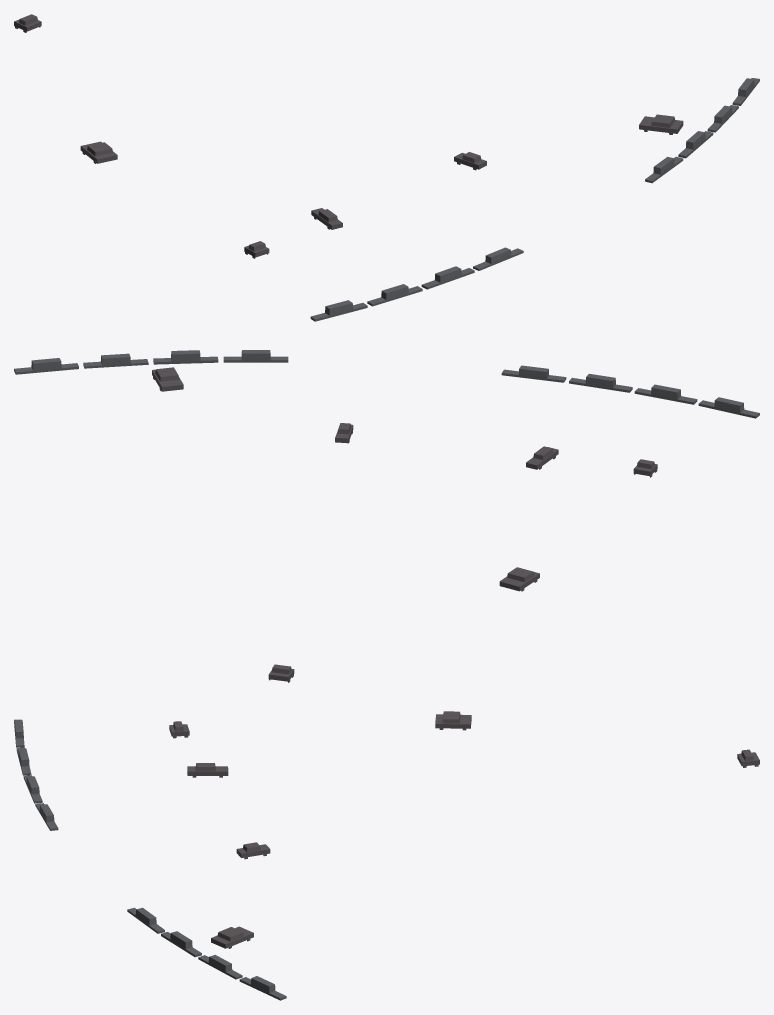
Rendered from SM_City_AlTariqAlMasdud_6.fbx.
3 views of the same model, one above another, from view 1: azimuth 30°, elevation 25°; view 2: azimuth 150°, elevation 25°; view 3: azimuth 270°, elevation 25° (orthographic). The views are drawn at different scales.
Parts seen in each view (by area): view 1: SM_City_AlTariqAlMasdud_6; view 2: SM_City_AlTariqAlMasdud_6; view 3: SM_City_AlTariqAlMasdud_6.
Part boxes in pixels (x1,y1,x2,y2): SM_City_AlTariqAlMasdud_6: (14,14,759,321); SM_City_AlTariqAlMasdud_6: (14,350,759,682); SM_City_AlTariqAlMasdud_6: (14,711,759,1000).
Size of the model in its own units: 8989 by 150 by 10110.
2 materials, 2 textured.
